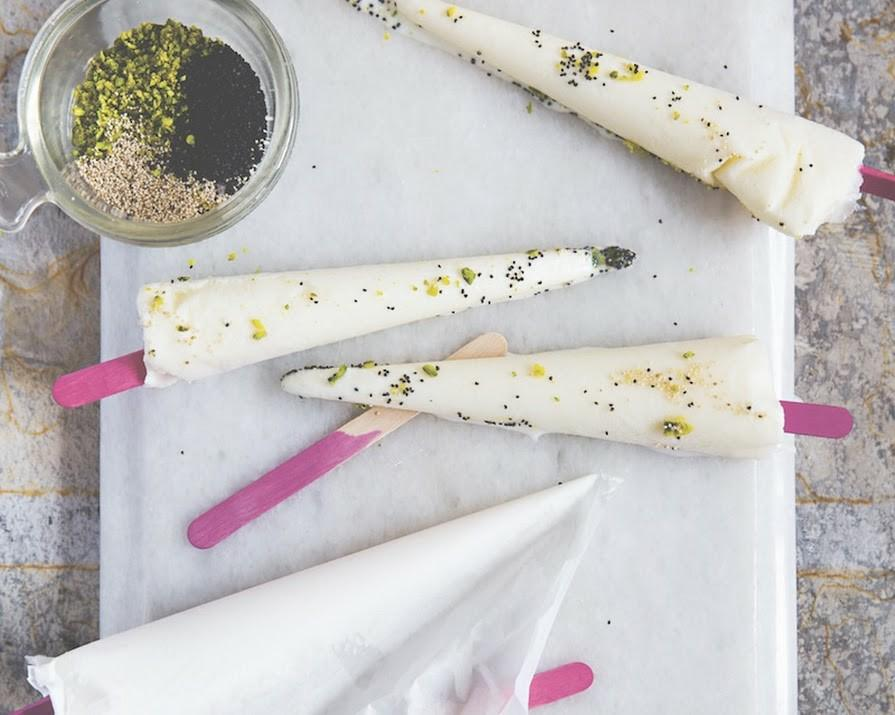Kulfi: (370, 0, 866, 241), (142, 245, 604, 385), (279, 335, 782, 455)
